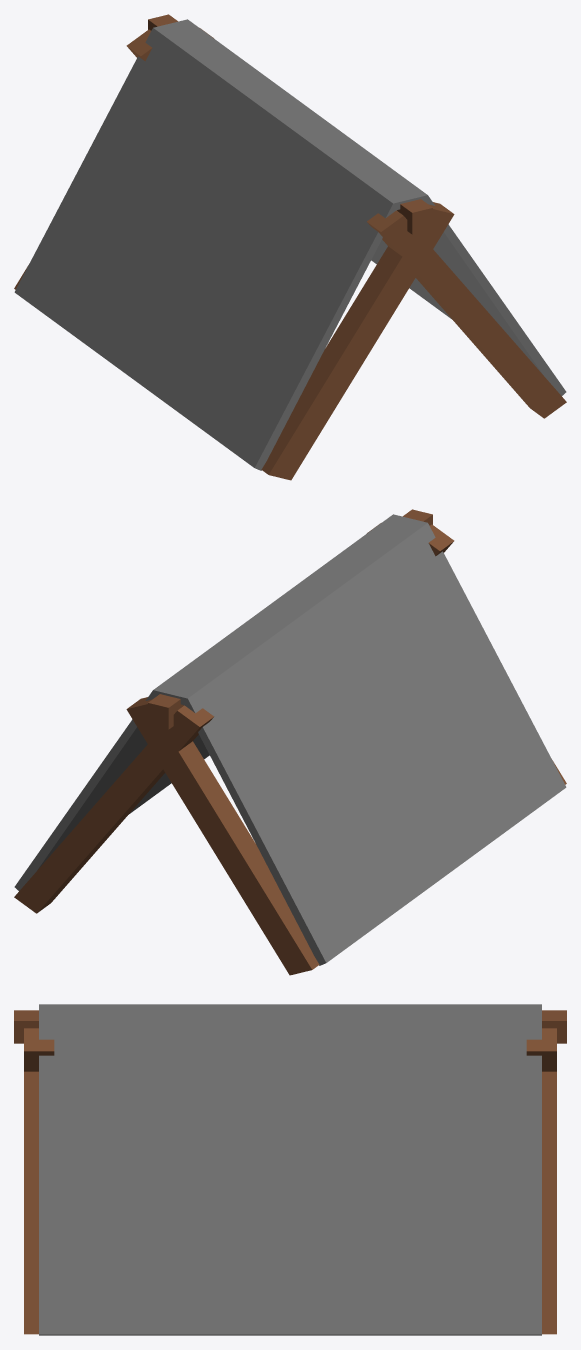
Rendered from Tent01.fbx.
The picture shows the model from 3 angles, top to bottom: view 1: azimuth 30°, elevation 25°; view 2: azimuth 150°, elevation 25°; view 3: azimuth 270°, elevation 25°; orthographic projection. The views are drawn at different scales.
Parts seen in each view (by area): view 1: Cube.001; view 2: Cube.001; view 3: Cube.001.
Part boxes in pixels (box(x1,y1,x2,y2)): Cube.001: box(14, 14, 566, 480); Cube.001: box(14, 509, 566, 975); Cube.001: box(14, 1004, 566, 1335).
Bounding box in the file's own units: 300 × 225 × 440.
